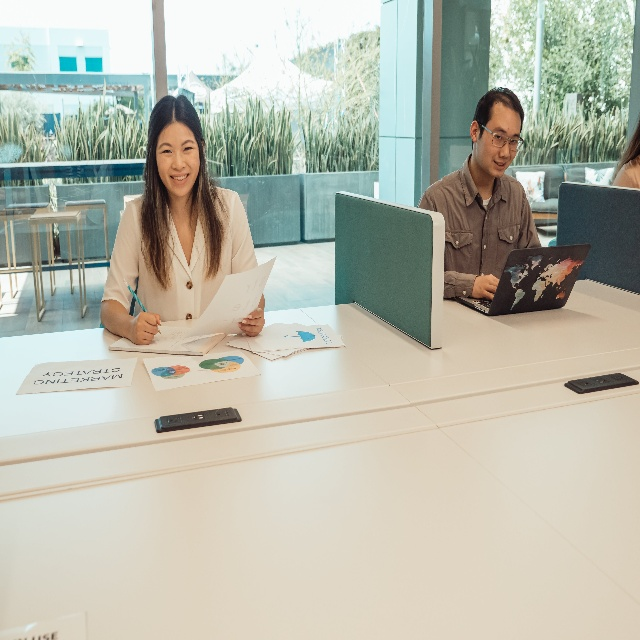Gafas: (479, 123, 524, 151)
Sin_guantes: (130, 311, 162, 346), (237, 307, 265, 337), (472, 274, 500, 301)
